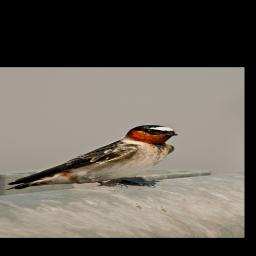Swallow: (3, 124, 180, 190)
